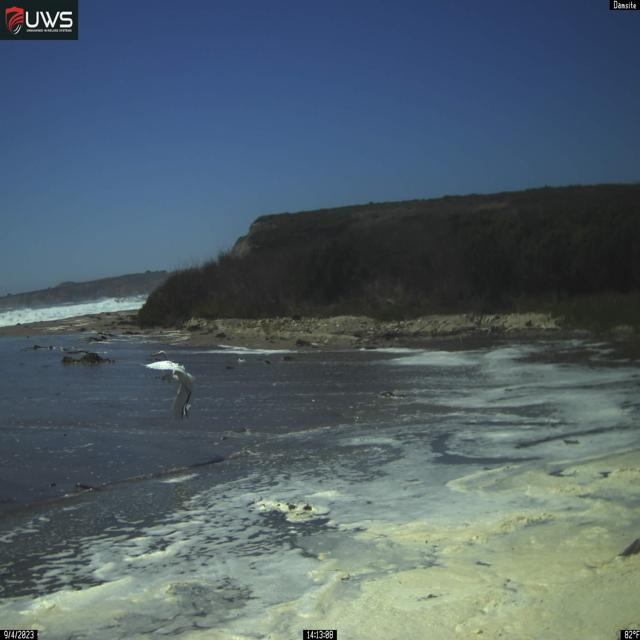bird: (140, 350, 196, 421)
